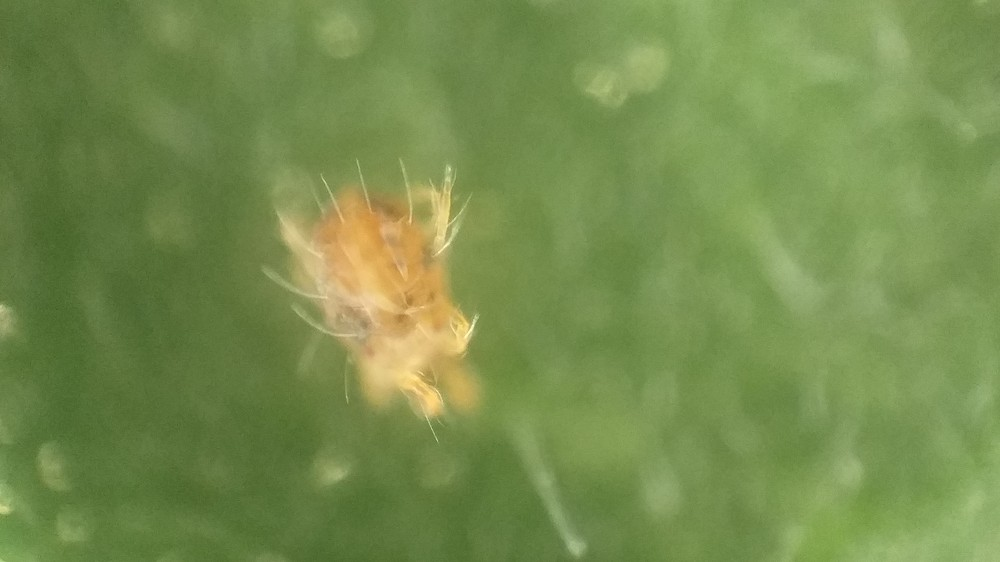Aracnido Rojo: (262, 147, 542, 437)
